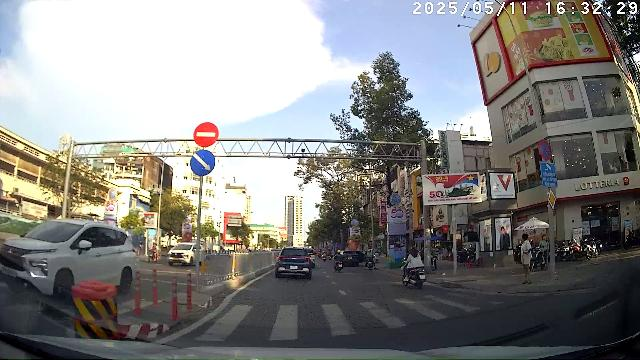102-cam-di-nguoc-chieu: (193, 122, 219, 148)
130-cam-dung-va-do-xe: (538, 138, 552, 160)
302a-huong-phai-di-vong-chuong-ngai-vat-1: (188, 148, 216, 176)
